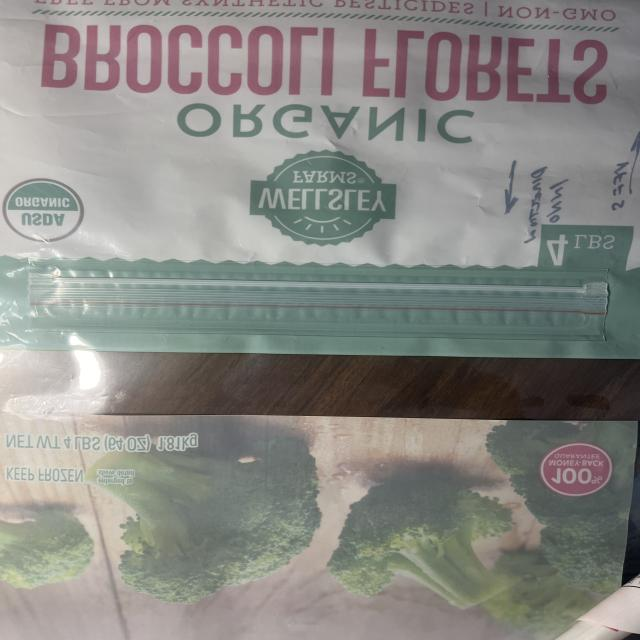zip_l: (28, 257, 609, 342)
